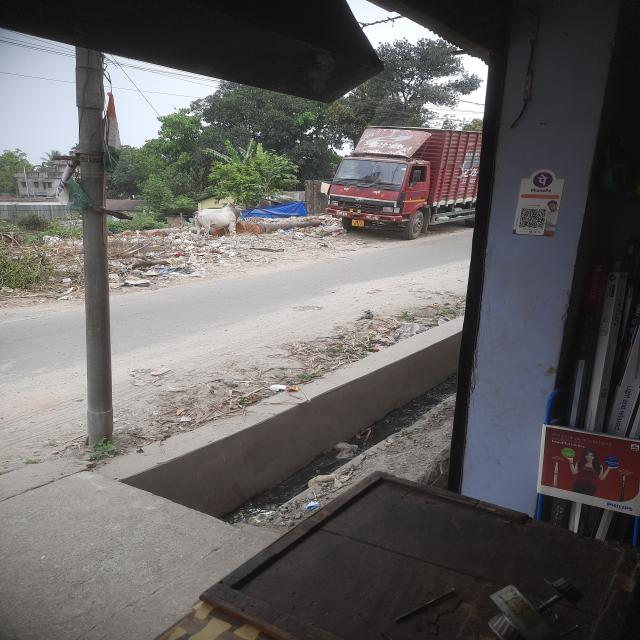Truck: (289, 122, 510, 245)
